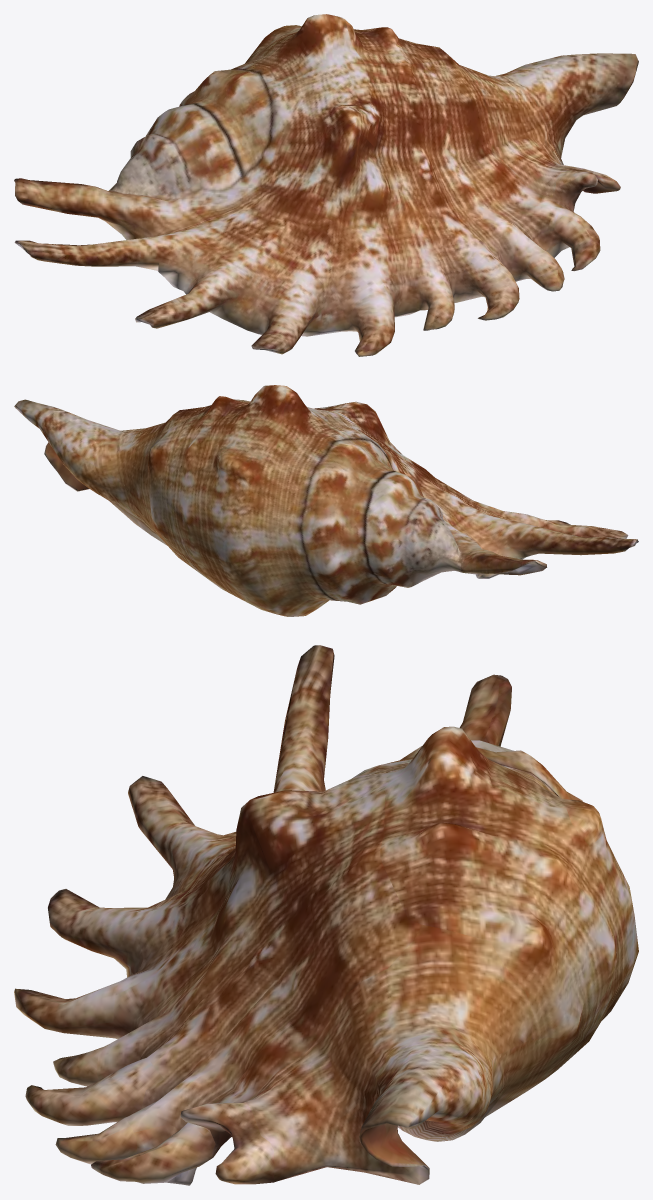
File: dp-shell.glb
3 renders of one model, top to bottom at view 1: azimuth 30°, elevation 25°; view 2: azimuth 150°, elevation 25°; view 3: azimuth 270°, elevation 25°, orthographic. The views are drawn at different scales.
Visible parts, largest first — view 1: lambis_shell; view 2: lambis_shell; view 3: lambis_shell.
Boxes of the visible parts, x1,y1,x2,y2 form: lambis_shell: (14, 14, 638, 356); lambis_shell: (14, 385, 638, 616); lambis_shell: (14, 645, 638, 1185).
Bounding box in the file's own units: 0.1395 × 0.0465 × 0.0744.
Materials: 1 (1 with a texture image).
